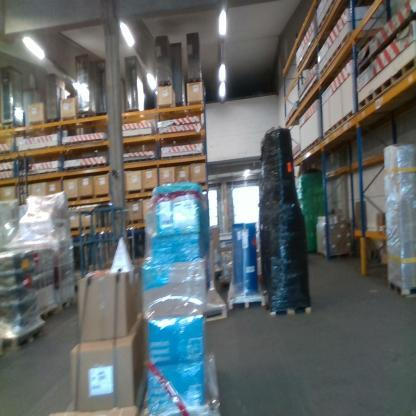pallets: (291, 49, 415, 157), (386, 276, 415, 301)
